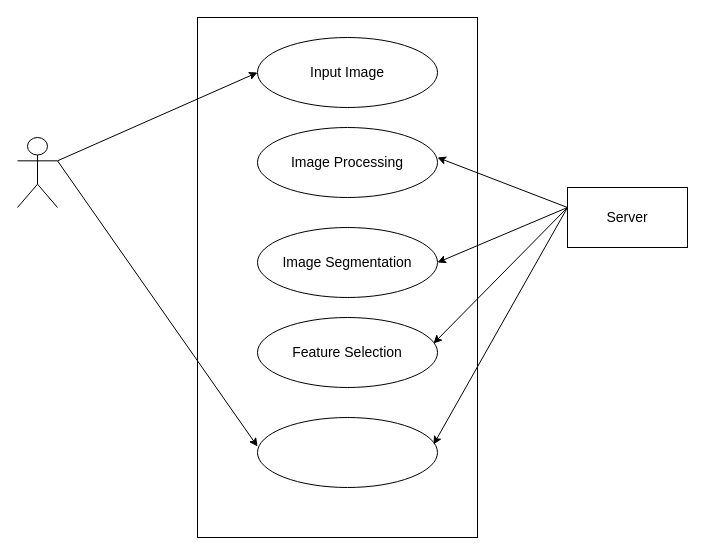
Image size: 705x555. Some labels were removed from this diagram. Each missing label, with the box of its shape:
Actor: (16, 136, 58, 208)
Tumor Detection: (256, 416, 438, 488)
